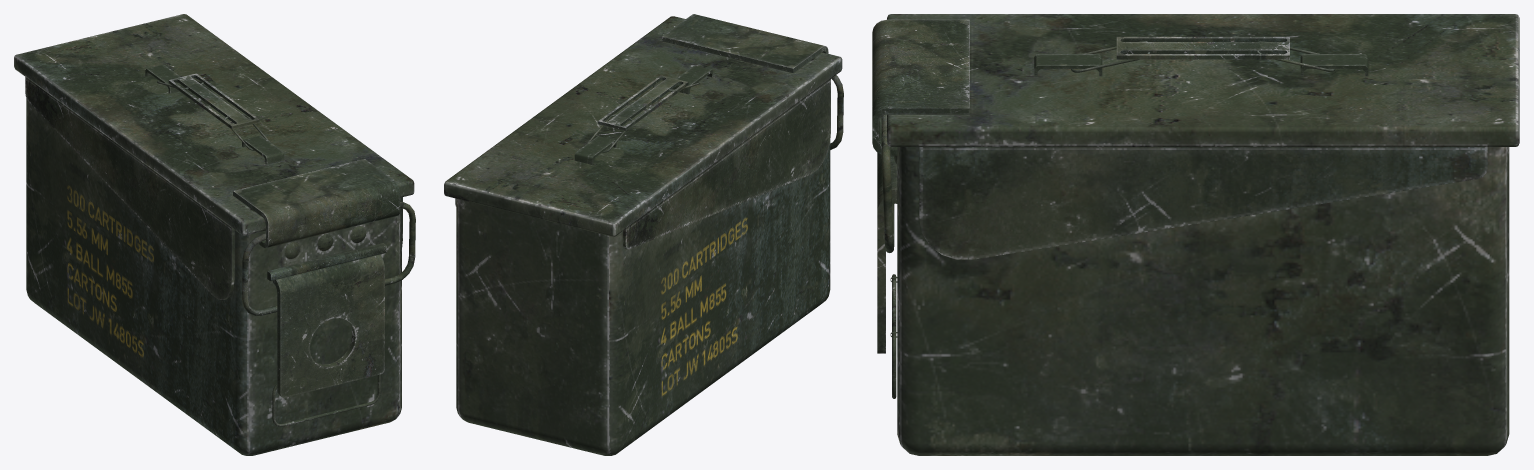
Rendered from AmmoBox.fbx.
3 views of the same model, side by side, from view 1: azimuth 30°, elevation 25°; view 2: azimuth 150°, elevation 25°; view 3: azimuth 270°, elevation 25° (orthographic). The views are drawn at different scales.
Visible parts, largest first — view 1: pCube18; view 2: pCube18; view 3: pCube18.
Part boxes in pixels (bbox=[...]): pCube18: bbox=[14, 14, 415, 455]; pCube18: bbox=[444, 14, 843, 455]; pCube18: bbox=[872, 14, 1519, 455].
Size of the model in its own units: 62.85 by 91.26 by 148.
Materials: 1 (1 with a texture image).
